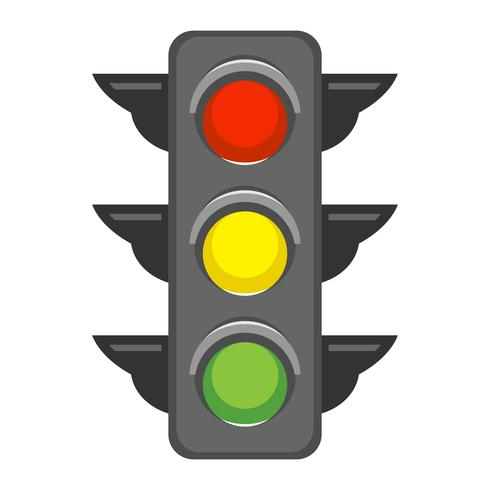TraficLight: (88, 25, 408, 465)
